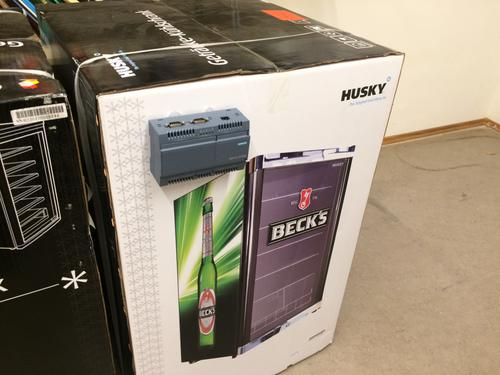iot2000: (148, 108, 252, 188)
